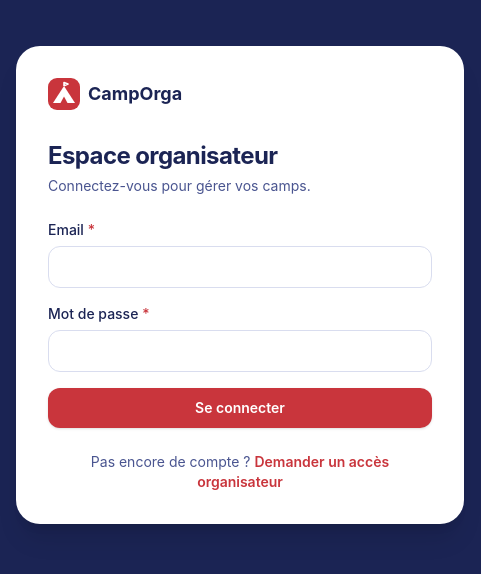
Connexion et protection des pages › affiche l’erreur de l’API quand les identifiants sont faux
Type "orga@example.com" into the field labelled "Email *". click: [240, 267]
box: left=48, top=246, right=432, bottom=288
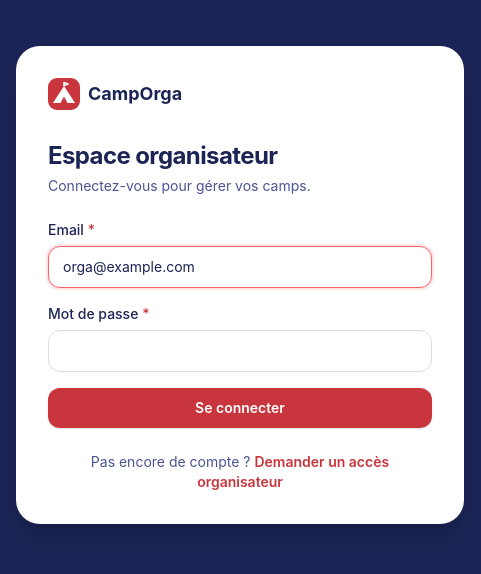
Type "mauvais-mot-de-passe" into the password field labelled "Mot de passe *". click: [240, 351]
box: left=48, top=330, right=432, bottom=372
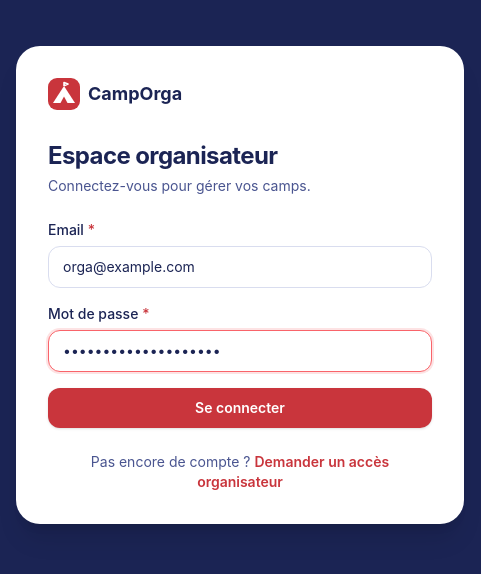
Click the button "Se connecter". click: [240, 408]
box: left=48, top=388, right=432, bottom=428
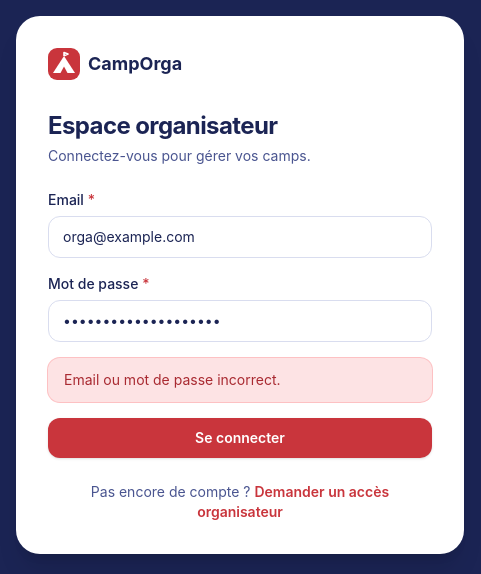
Expected: the message reads "Email ou mot de passe incorrect.", left=64, top=371, right=280, bottom=388
